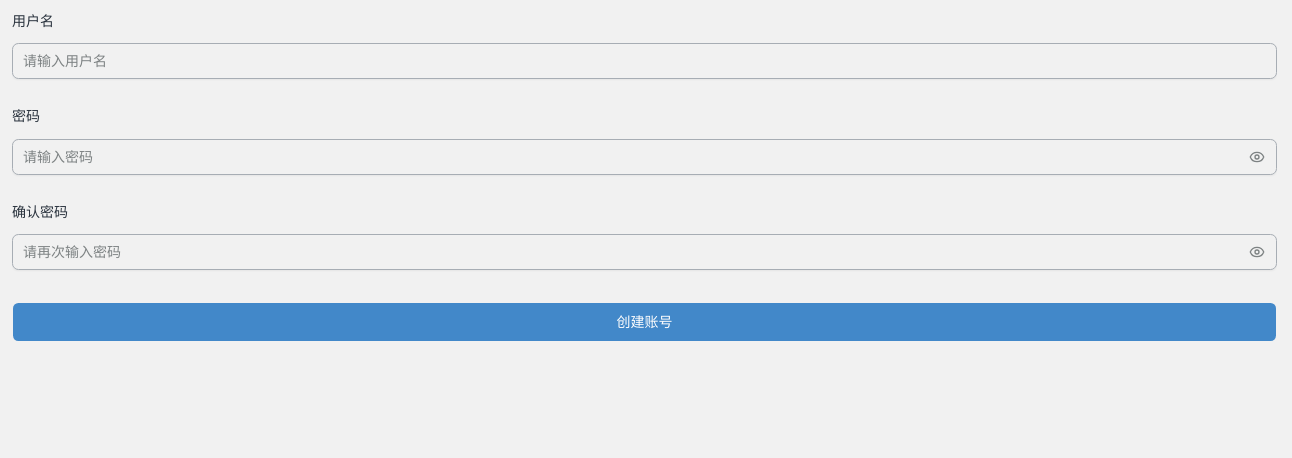
RegisterForm › maps registration failures to login.registerErrorInvalidPassword
The image size is (1292, 458).
Step 1. Type "new_user" into the field labelled "用户名" → (644, 61), box x1=12 y1=43 x2=1277 y2=79
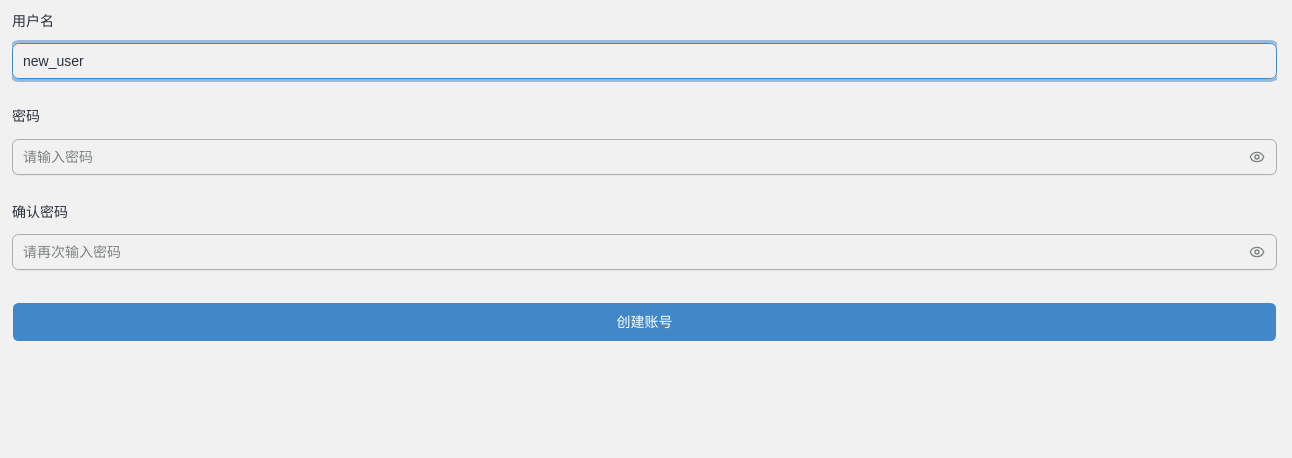
Step 2. Type "Correct123!" into the password field labelled "密码" → (644, 156), box x1=12 y1=138 x2=1277 y2=174
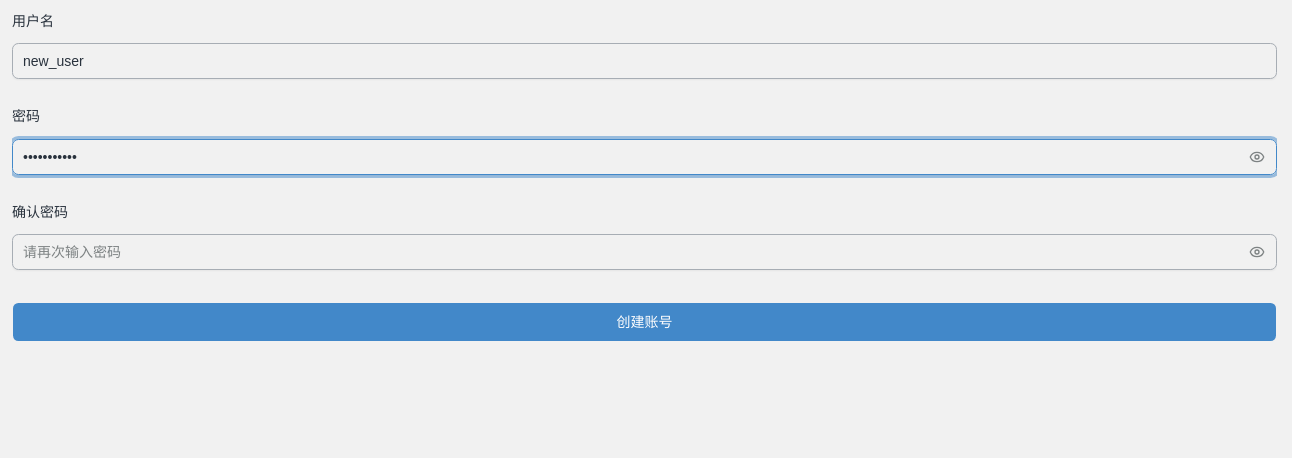
Step 3. Type "Correct123!" into the password field labelled "确认密码" → (644, 252), box x1=12 y1=234 x2=1277 y2=270
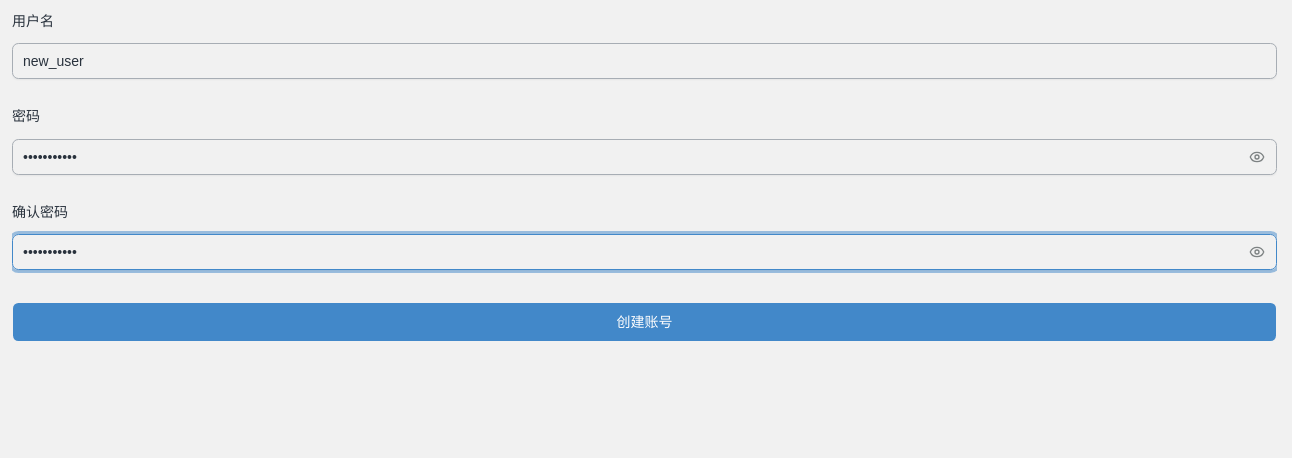
Step 4. Click the button "创建账号" → (644, 322), box x1=12 y1=302 x2=1277 y2=342
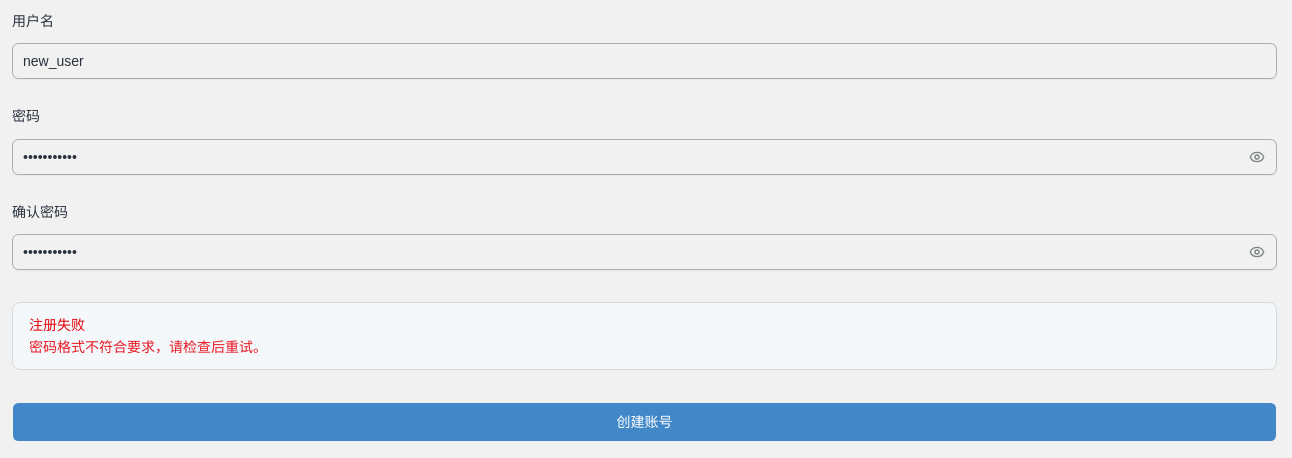
Expected: the text "注册失败" is shown, x1=29 y1=317 x2=85 y2=333
Expected: the text "密码格式不符合要求，请检查后重试。" is shown, x1=29 y1=339 x2=267 y2=355
